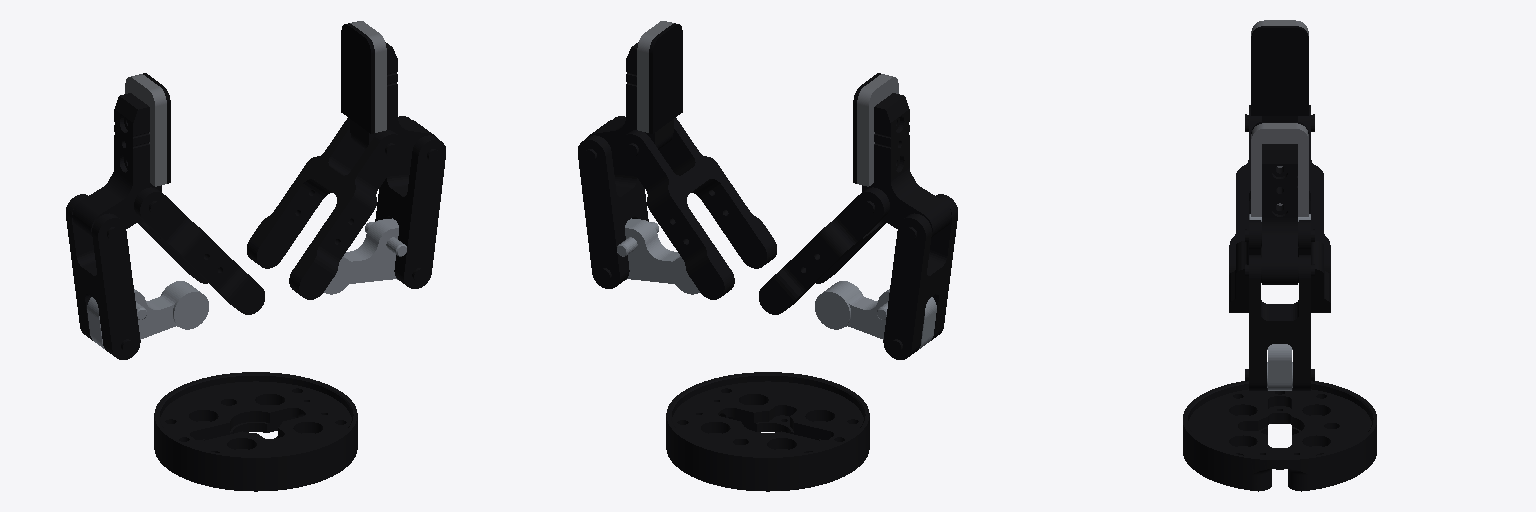
The robot description file, URDF, robot "robotiq_2f85":
<?xml version='1.0' encoding='utf-8'?>
<robot name="robotiq_2f85">
  <mujoco>
    <compiler discardvisual="false" fusestatic="false" />
  </mujoco>
  <link name="robotiq_2f85_mount" />
  <link name="robotiq_2f85_base_mount">
    <visual>
      <origin xyz="0 0 0" rpy="0 0 0" />
      <geometry>
        <mesh filename="robotiq_2f85_meshes/base_mount.obj" />
      </geometry>
      <material name="base_mount_material">
        <color rgba="0.1 0.1 0.11 1" />
      </material>
    </visual>
    <collision>
      <origin xyz="0 0 0" rpy="0 0 0" />
      <geometry>
        <mesh filename="robotiq_2f85_meshes/base_mount.obj" />
      </geometry>
    </collision>
  </link>
  <link name="robotiq_2f85_base">
    <inertial>
      <origin xyz="0 0 0" rpy="0 0 0" />
      <mass value="0.777441" />
      <inertia ixx="0.000260285" ixy="0" ixz="0" iyy="0.000225381" iyz="0" izz="0.000152708" />
    </inertial>
    <visual>
      <origin xyz="0 0 0" rpy="0 0 0" />
      <geometry>
        <mesh filename="robotiq_2f85_meshes/base.obj" />
      </geometry>
      <material name="base_material">
        <color rgba="0.1 0.1 0.11 1" />
      </material>
    </visual>
    <collision>
      <origin xyz="0 0 0" rpy="0 0 0" />
      <geometry>
        <mesh filename="robotiq_2f85_meshes/base.obj" />
      </geometry>
    </collision>
  </link>
  <joint name="robotiq_2f85_base_mount_joint" type="fixed">
    <origin xyz="0 0 0.007" rpy="0 0 0" />
    <parent link="robotiq_2f85_mount" />
    <child link="robotiq_2f85_base_mount" />
  </joint>
  <joint name="robotiq_2f85_base_joint" type="fixed">
    <origin xyz="0 0 0.0038" rpy="0 0 -1.57079633" />
    <parent link="robotiq_2f85_base_mount" />
    <child link="robotiq_2f85_base" />
  </joint>
  <link name="robotiq_2f85_right_driver">
    <inertial>
      <origin xyz="0 0 0" rpy="0 0 0" />
      <mass value="0.00899563" />
      <inertia ixx="1e-06" ixy="0" ixz="0" iyy="1e-06" iyz="0" izz="1e-06" />
    </inertial>
    <visual>
      <origin xyz="0 0 0" rpy="0 0 0" />
      <geometry>
        <mesh filename="robotiq_2f85_meshes/driver.obj" />
      </geometry>
      <material name="driver_material">
        <color rgba="0.5 0.52 0.55 1" />
      </material>
    </visual>
    <collision>
      <origin xyz="0 0 0" rpy="0 0 0" />
      <geometry>
        <mesh filename="robotiq_2f85_meshes/driver.obj" />
      </geometry>
    </collision>
  </link>
  <link name="robotiq_2f85_right_coupler">
    <inertial>
      <origin xyz="0 0 0" rpy="0 0 0" />
      <mass value="0.0140974" />
      <inertia ixx="1e-06" ixy="0" ixz="0" iyy="1e-06" iyz="0" izz="1e-06" />
    </inertial>
    <visual>
      <origin xyz="0 0 0" rpy="0 0 0" />
      <geometry>
        <mesh filename="robotiq_2f85_meshes/coupler.obj" />
      </geometry>
      <material name="coupler_material">
        <color rgba="0.1 0.1 0.11 1" />
      </material>
    </visual>
    <collision>
      <origin xyz="0 0 0" rpy="0 0 0" />
      <geometry>
        <mesh filename="robotiq_2f85_meshes/coupler.obj" />
      </geometry>
    </collision>
  </link>
  <link name="robotiq_2f85_right_spring_link">
    <inertial>
      <origin xyz="0 0 0" rpy="0 0 0" />
      <mass value="0.0221642" />
      <inertia ixx="1e-06" ixy="0" ixz="0" iyy="1e-06" iyz="0" izz="1e-06" />
    </inertial>
    <visual>
      <origin xyz="0 0 0" rpy="0 0 0" />
      <geometry>
        <mesh filename="robotiq_2f85_meshes/spring_link.obj" />
      </geometry>
      <material name="spring_link_material">
        <color rgba="0.1 0.1 0.11 1" />
      </material>
    </visual>
    <collision>
      <origin xyz="0 0 0" rpy="0 0 0" />
      <geometry>
        <mesh filename="robotiq_2f85_meshes/spring_link.obj" />
      </geometry>
    </collision>
  </link>
  <link name="robotiq_2f85_right_follower">
    <inertial>
      <origin xyz="0 0 0" rpy="0 0 0" />
      <mass value="0.0125222" />
      <inertia ixx="1e-06" ixy="0" ixz="0" iyy="1e-06" iyz="0" izz="1e-06" />
    </inertial>
    <visual>
      <origin xyz="0 0 0" rpy="0 0 0" />
      <geometry>
        <mesh filename="robotiq_2f85_meshes/follower.obj" />
      </geometry>
      <material name="follower_material">
        <color rgba="0.1 0.1 0.11 1" />
      </material>
    </visual>
    <collision>
      <origin xyz="0 0 0" rpy="0 0 0" />
      <geometry>
        <mesh filename="robotiq_2f85_meshes/follower.obj" />
      </geometry>
    </collision>
  </link>
  <link name="robotiq_2f85_right_pad">
    <inertial>
      <origin xyz="0 0 0" rpy="0 0 0" />
      <mass value="0.0035" />
      <inertia ixx="1e-06" ixy="0" ixz="0" iyy="1e-06" iyz="0" izz="1e-06" />
    </inertial>
    <visual>
      <origin xyz="0 0 0" rpy="0 0 0" />
      <geometry>
        <mesh filename="robotiq_2f85_meshes/pad.obj" />
      </geometry>
      <material name="pad_material">
        <color rgba="0.42 0.43 0.45 1" />
      </material>
    </visual>
    <collision>
      <origin xyz="0 0 0" rpy="0 0 0" />
      <geometry>
        <mesh filename="robotiq_2f85_meshes/pad.obj" />
      </geometry>
    </collision>
    <collision>
      <origin xyz="0 -0.0026 0.028125" rpy="0 0 0" />
      <geometry>
        <box size="0.022 0.008 0.01875" />
      </geometry>
    </collision>
    <collision>
      <origin xyz="0 -0.0026 0.009375" rpy="0 0 0" />
      <geometry>
        <box size="0.022 0.008 0.01875" />
      </geometry>
    </collision>
  </link>
  <link name="robotiq_2f85_right_silicone_pad">
    <inertial>
      <origin xyz="0 0 0" rpy="0 0 0" />
      <mass value="0.0005" />
      <inertia ixx="1e-06" ixy="0" ixz="0" iyy="1e-06" iyz="0" izz="1e-06" />
    </inertial>
    <visual>
      <origin xyz="0 0 0" rpy="0 0 0" />
      <geometry>
        <mesh filename="robotiq_2f85_meshes/silicone_pad.obj" />
      </geometry>
      <material name="silicone_pad_material">
        <color rgba="0.08 0.08 0.09 1" />
      </material>
    </visual>
    <collision>
      <origin xyz="0 0 0" rpy="0 0 0" />
      <geometry>
        <mesh filename="robotiq_2f85_meshes/silicone_pad.obj" />
      </geometry>
    </collision>
  </link>
  <joint name="robotiq_2f85_right_driver_joint" type="revolute">
    <origin xyz="0 0.0306011 0.054904" rpy="0 0 0" />
    <parent link="robotiq_2f85_base" />
    <child link="robotiq_2f85_right_driver" />
    <axis xyz="1 0 0" />
    <limit lower="0" upper="0.8" effort="20" velocity="2" />
    <dynamics damping="0.05" friction="0.01" />
  </joint>
  <!-- Coupler is fixed on both sides (it rides the driver) so a single commanded joint
       drives the fingers: spring_link mirrors the driver at +1 and the follower at -1,
       the same coefficients the MuJoCo build uses for its equality constraints. A fixed
       joint may not be a <mimic> source, so the left coupler declares no mimic either. -->
  <joint name="robotiq_2f85_right_coupler_joint" type="fixed">
    <origin xyz="0 0.0315 -0.0041" rpy="0 0 0" />
    <parent link="robotiq_2f85_right_driver" />
    <child link="robotiq_2f85_right_coupler" />
  </joint>
  <joint name="robotiq_2f85_right_spring_link_joint" type="revolute">
    <origin xyz="0 0.0132 0.0609" rpy="0 0 0" />
    <parent link="robotiq_2f85_base" />
    <child link="robotiq_2f85_right_spring_link" />
    <axis xyz="1 0 0" />
    <limit lower="-0.296706" upper="0.8" effort="20" velocity="2" />
    <dynamics damping="0.05" friction="0.01" />
    <mimic joint="robotiq_2f85_right_driver_joint" multiplier="1" offset="0" />
  </joint>
  <joint name="robotiq_2f85_right_follower_joint" type="revolute">
    <origin xyz="0 0.055 0.0375" rpy="0 0 0" />
    <parent link="robotiq_2f85_right_spring_link" />
    <child link="robotiq_2f85_right_follower" />
    <axis xyz="1 0 0" />
    <limit lower="-0.872665" upper="0.872665" effort="20" velocity="2" />
    <dynamics damping="0.05" friction="0.01" />
    <mimic joint="robotiq_2f85_right_driver_joint" multiplier="-1" offset="0" />
  </joint>
  <joint name="robotiq_2f85_right_pad_joint" type="fixed">
    <origin xyz="0 -0.0189 0.01352" rpy="0 0 0" />
    <parent link="robotiq_2f85_right_follower" />
    <child link="robotiq_2f85_right_pad" />
  </joint>
  <joint name="robotiq_2f85_right_silicone_pad_joint" type="fixed">
    <origin xyz="0 0 0" rpy="0 0 0" />
    <parent link="robotiq_2f85_right_pad" />
    <child link="robotiq_2f85_right_silicone_pad" />
  </joint>
  <link name="robotiq_2f85_left_driver">
    <inertial>
      <origin xyz="0 0 0" rpy="0 0 0" />
      <mass value="0.00899563" />
      <inertia ixx="1e-06" ixy="0" ixz="0" iyy="1e-06" iyz="0" izz="1e-06" />
    </inertial>
    <visual>
      <origin xyz="0 0 0" rpy="0 0 0" />
      <geometry>
        <mesh filename="robotiq_2f85_meshes/driver.obj" />
      </geometry>
      <material name="driver_material">
        <color rgba="0.5 0.52 0.55 1" />
      </material>
    </visual>
    <collision>
      <origin xyz="0 0 0" rpy="0 0 0" />
      <geometry>
        <mesh filename="robotiq_2f85_meshes/driver.obj" />
      </geometry>
    </collision>
  </link>
  <link name="robotiq_2f85_left_coupler">
    <inertial>
      <origin xyz="0 0 0" rpy="0 0 0" />
      <mass value="0.0140974" />
      <inertia ixx="1e-06" ixy="0" ixz="0" iyy="1e-06" iyz="0" izz="1e-06" />
    </inertial>
    <visual>
      <origin xyz="0 0 0" rpy="0 0 0" />
      <geometry>
        <mesh filename="robotiq_2f85_meshes/coupler.obj" />
      </geometry>
      <material name="coupler_material">
        <color rgba="0.1 0.1 0.11 1" />
      </material>
    </visual>
    <collision>
      <origin xyz="0 0 0" rpy="0 0 0" />
      <geometry>
        <mesh filename="robotiq_2f85_meshes/coupler.obj" />
      </geometry>
    </collision>
  </link>
  <link name="robotiq_2f85_left_spring_link">
    <inertial>
      <origin xyz="0 0 0" rpy="0 0 0" />
      <mass value="0.0221642" />
      <inertia ixx="1e-06" ixy="0" ixz="0" iyy="1e-06" iyz="0" izz="1e-06" />
    </inertial>
    <visual>
      <origin xyz="0 0 0" rpy="0 0 0" />
      <geometry>
        <mesh filename="robotiq_2f85_meshes/spring_link.obj" />
      </geometry>
      <material name="spring_link_material">
        <color rgba="0.1 0.1 0.11 1" />
      </material>
    </visual>
    <collision>
      <origin xyz="0 0 0" rpy="0 0 0" />
      <geometry>
        <mesh filename="robotiq_2f85_meshes/spring_link.obj" />
      </geometry>
    </collision>
  </link>
  <link name="robotiq_2f85_left_follower">
    <inertial>
      <origin xyz="0 0 0" rpy="0 0 0" />
      <mass value="0.0125222" />
      <inertia ixx="1e-06" ixy="0" ixz="0" iyy="1e-06" iyz="0" izz="1e-06" />
    </inertial>
    <visual>
      <origin xyz="0 0 0" rpy="0 0 0" />
      <geometry>
        <mesh filename="robotiq_2f85_meshes/follower.obj" />
      </geometry>
      <material name="follower_material">
        <color rgba="0.1 0.1 0.11 1" />
      </material>
    </visual>
    <collision>
      <origin xyz="0 0 0" rpy="0 0 0" />
      <geometry>
        <mesh filename="robotiq_2f85_meshes/follower.obj" />
      </geometry>
    </collision>
  </link>
  <link name="robotiq_2f85_left_pad">
    <inertial>
      <origin xyz="0 0 0" rpy="0 0 0" />
      <mass value="0.0035" />
      <inertia ixx="1e-06" ixy="0" ixz="0" iyy="1e-06" iyz="0" izz="1e-06" />
    </inertial>
    <visual>
      <origin xyz="0 0 0" rpy="0 0 0" />
      <geometry>
        <mesh filename="robotiq_2f85_meshes/pad.obj" />
      </geometry>
      <material name="pad_material">
        <color rgba="0.42 0.43 0.45 1" />
      </material>
    </visual>
    <collision>
      <origin xyz="0 0 0" rpy="0 0 0" />
      <geometry>
        <mesh filename="robotiq_2f85_meshes/pad.obj" />
      </geometry>
    </collision>
    <collision>
      <origin xyz="0 -0.0026 0.028125" rpy="0 0 0" />
      <geometry>
        <box size="0.022 0.008 0.01875" />
      </geometry>
    </collision>
    <collision>
      <origin xyz="0 -0.0026 0.009375" rpy="0 0 0" />
      <geometry>
        <box size="0.022 0.008 0.01875" />
      </geometry>
    </collision>
  </link>
  <link name="robotiq_2f85_left_silicone_pad">
    <inertial>
      <origin xyz="0 0 0" rpy="0 0 0" />
      <mass value="0.0005" />
      <inertia ixx="1e-06" ixy="0" ixz="0" iyy="1e-06" iyz="0" izz="1e-06" />
    </inertial>
    <visual>
      <origin xyz="0 0 0" rpy="0 0 0" />
      <geometry>
        <mesh filename="robotiq_2f85_meshes/silicone_pad.obj" />
      </geometry>
      <material name="silicone_pad_material">
        <color rgba="0.08 0.08 0.09 1" />
      </material>
    </visual>
    <collision>
      <origin xyz="0 0 0" rpy="0 0 0" />
      <geometry>
        <mesh filename="robotiq_2f85_meshes/silicone_pad.obj" />
      </geometry>
    </collision>
  </link>
  <joint name="robotiq_2f85_left_driver_joint" type="revolute">
    <origin xyz="0 -0.0306011 0.054904" rpy="0 0 3.14159265" />
    <parent link="robotiq_2f85_base" />
    <child link="robotiq_2f85_left_driver" />
    <axis xyz="1 0 0" />
    <limit lower="0" upper="0.8" effort="20" velocity="2" />
    <dynamics damping="0.05" friction="0.01" />
    <mimic joint="robotiq_2f85_right_driver_joint" multiplier="1" offset="0" />
  </joint>
  <joint name="robotiq_2f85_left_coupler_joint" type="fixed">
    <origin xyz="0 0.0315 -0.0041" rpy="0 0 0" />
    <parent link="robotiq_2f85_left_driver" />
    <child link="robotiq_2f85_left_coupler" />
  </joint>
  <joint name="robotiq_2f85_left_spring_link_joint" type="revolute">
    <origin xyz="0 -0.0132 0.0609" rpy="0 0 3.14159265" />
    <parent link="robotiq_2f85_base" />
    <child link="robotiq_2f85_left_spring_link" />
    <axis xyz="1 0 0" />
    <limit lower="-0.296706" upper="0.8" effort="20" velocity="2" />
    <dynamics damping="0.05" friction="0.01" />
    <mimic joint="robotiq_2f85_right_spring_link_joint" multiplier="1" offset="0" />
  </joint>
  <joint name="robotiq_2f85_left_follower_joint" type="revolute">
    <origin xyz="0 0.055 0.0375" rpy="0 0 0" />
    <parent link="robotiq_2f85_left_spring_link" />
    <child link="robotiq_2f85_left_follower" />
    <axis xyz="1 0 0" />
    <limit lower="-0.872665" upper="0.872665" effort="20" velocity="2" />
    <dynamics damping="0.05" friction="0.01" />
    <mimic joint="robotiq_2f85_right_follower_joint" multiplier="1" offset="0" />
  </joint>
  <joint name="robotiq_2f85_left_pad_joint" type="fixed">
    <origin xyz="0 -0.0189 0.01352" rpy="0 0 0" />
    <parent link="robotiq_2f85_left_follower" />
    <child link="robotiq_2f85_left_pad" />
  </joint>
  <joint name="robotiq_2f85_left_silicone_pad_joint" type="fixed">
    <origin xyz="0 0 0" rpy="0 0 0" />
    <parent link="robotiq_2f85_left_pad" />
    <child link="robotiq_2f85_left_silicone_pad" />
  </joint>
</robot>

--- Render facts (derived) ---
Views: 3 orthographic renders of the robot side by side, from view 1: azimuth 30°, elevation 25°; view 2: azimuth 150°, elevation 25°; view 3: azimuth 270°, elevation 25°.
Model robotiq_2f85 with 15 links and 14 joints (6 revolute, 8 fixed), rooted at robotiq_2f85_mount, posed every joint at zero.
Visible links, largest first — view 1: robotiq_2f85_base_mount, robotiq_2f85_right_spring_link, robotiq_2f85_left_coupler, robotiq_2f85_right_coupler, robotiq_2f85_left_spring_link, robotiq_2f85_left_follower, robotiq_2f85_left_driver, robotiq_2f85_right_silicone_pad, robotiq_2f85_right_driver, robotiq_2f85_left_pad, robotiq_2f85_right_follower, robotiq_2f85_right_pad; view 2: robotiq_2f85_base_mount, robotiq_2f85_right_spring_link, robotiq_2f85_left_coupler, robotiq_2f85_right_coupler, robotiq_2f85_left_spring_link, robotiq_2f85_left_follower, robotiq_2f85_left_driver, robotiq_2f85_right_silicone_pad, robotiq_2f85_right_driver, robotiq_2f85_left_pad, robotiq_2f85_right_follower, robotiq_2f85_right_pad; view 3: robotiq_2f85_base_mount, robotiq_2f85_right_coupler, robotiq_2f85_right_follower, robotiq_2f85_left_silicone_pad, robotiq_2f85_right_spring_link, robotiq_2f85_left_spring_link, robotiq_2f85_right_pad, robotiq_2f85_right_driver.
Boxes of the visible links, left/top/right/bottom form: robotiq_2f85_base_mount: left=154, top=372, right=357, bottom=491; robotiq_2f85_right_spring_link: left=247, top=118, right=403, bottom=299; robotiq_2f85_left_coupler: left=66, top=194, right=140, bottom=359; robotiq_2f85_right_coupler: left=375, top=116, right=445, bottom=288; robotiq_2f85_left_spring_link: left=108, top=174, right=264, bottom=314; robotiq_2f85_left_follower: left=72, top=93, right=161, bottom=237; robotiq_2f85_left_driver: left=87, top=281, right=208, bottom=348; robotiq_2f85_right_silicone_pad: left=341, top=23, right=374, bottom=133; robotiq_2f85_right_driver: left=324, top=218, right=406, bottom=294; robotiq_2f85_left_pad: left=125, top=74, right=166, bottom=186; robotiq_2f85_right_follower: left=350, top=42, right=437, bottom=161; robotiq_2f85_right_pad: left=350, top=21, right=386, bottom=132; robotiq_2f85_base_mount: left=666, top=372, right=869, bottom=491; robotiq_2f85_right_spring_link: left=620, top=118, right=776, bottom=299; robotiq_2f85_left_coupler: left=883, top=194, right=957, bottom=359; robotiq_2f85_right_coupler: left=578, top=116, right=648, bottom=288; robotiq_2f85_left_spring_link: left=759, top=174, right=915, bottom=314; robotiq_2f85_left_follower: left=862, top=93, right=951, bottom=237; robotiq_2f85_left_driver: left=815, top=281, right=936, bottom=348; robotiq_2f85_right_silicone_pad: left=649, top=23, right=682, bottom=133; robotiq_2f85_right_driver: left=617, top=218, right=699, bottom=294; robotiq_2f85_left_pad: left=857, top=74, right=898, bottom=186; robotiq_2f85_right_follower: left=586, top=42, right=673, bottom=161; robotiq_2f85_right_pad: left=637, top=21, right=673, bottom=132; robotiq_2f85_base_mount: left=1183, top=381, right=1376, bottom=491; robotiq_2f85_right_coupler: left=1245, top=255, right=1314, bottom=390; robotiq_2f85_right_follower: left=1261, top=144, right=1298, bottom=284; robotiq_2f85_left_silicone_pad: left=1251, top=26, right=1308, bottom=115; robotiq_2f85_right_spring_link: left=1229, top=220, right=1330, bottom=312; robotiq_2f85_left_spring_link: left=1229, top=110, right=1330, bottom=274; robotiq_2f85_right_pad: left=1251, top=123, right=1308, bottom=216; robotiq_2f85_right_driver: left=1267, top=344, right=1292, bottom=390.
Size in the robot's own frame: 0.1484 by 0.075 by 0.1602 metres.
13 mesh visuals loaded from 8 distinct referenced files (7 OBJ); not drawn: 1 (reference not matched to a file when rendering).
